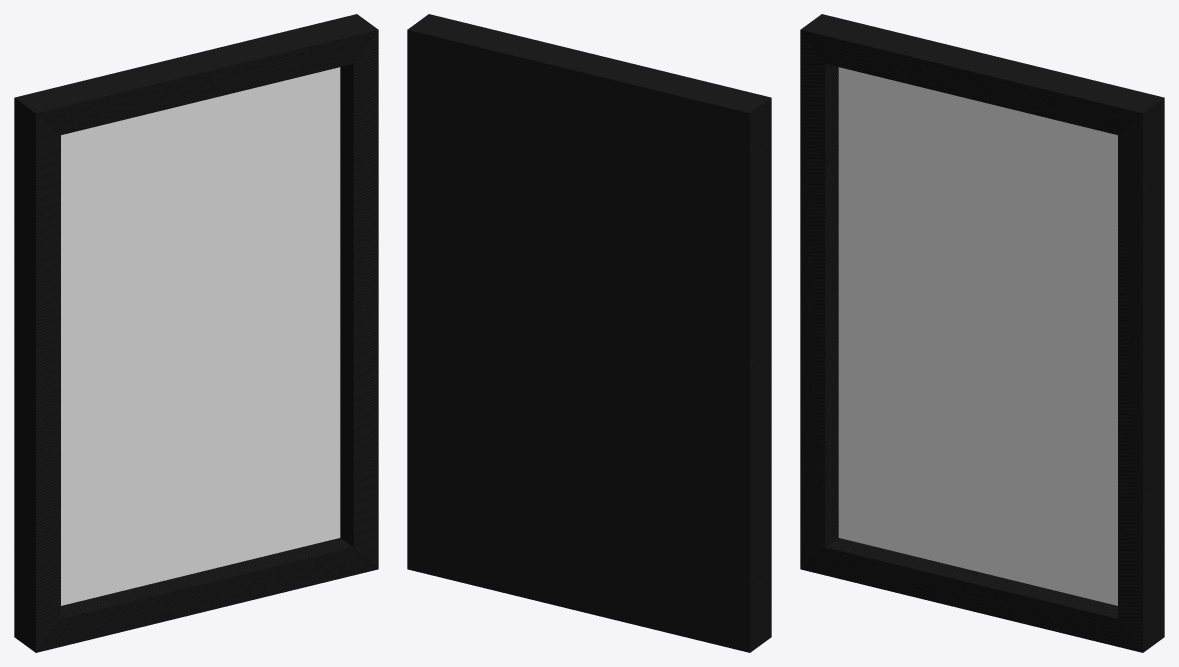
The model's file is Photo frameV1.FBX.
The picture shows the model from 3 angles, left to right: view 1: azimuth 30°, elevation 25°; view 2: azimuth 150°, elevation 25°; view 3: azimuth 330°, elevation 25°; orthographic projection.
Visible parts, largest first — view 1: Photo frame; view 2: Photo frame; view 3: Photo frame.
Boxes of the visible parts, box(x1,y1,x2,y2) form: Photo frame: box(14, 14, 378, 652); Photo frame: box(407, 14, 771, 652); Photo frame: box(800, 14, 1164, 652).
Bounding box in the file's own units: 80.02 × 120 × 8.72.
Materials: 2 (1 with a texture image).
